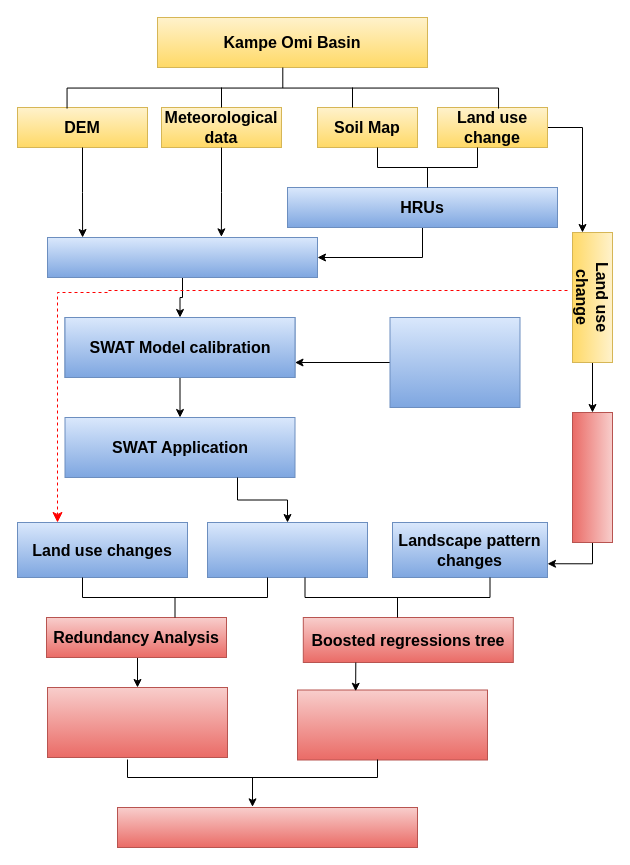
This 630x865 diagram has some shape labels left out. The box of each missing label's shape, as (x1, y1, x2, y2) in pixels:
changes in TP/TN: (206, 522, 368, 578)
Contribution of Land use changes to TP/TN changes: (296, 689, 488, 760)
Correlation of land use/landscape patterns and TP/TN: (116, 806, 418, 848)
Fargstats: (572, 412, 612, 542)
Observed data -flow data - TN/TP data: (389, 316, 520, 408)
Relationship among landscape patterns and TN/TP changes: (46, 686, 228, 758)
SWAT Model setup: (46, 236, 318, 278)
